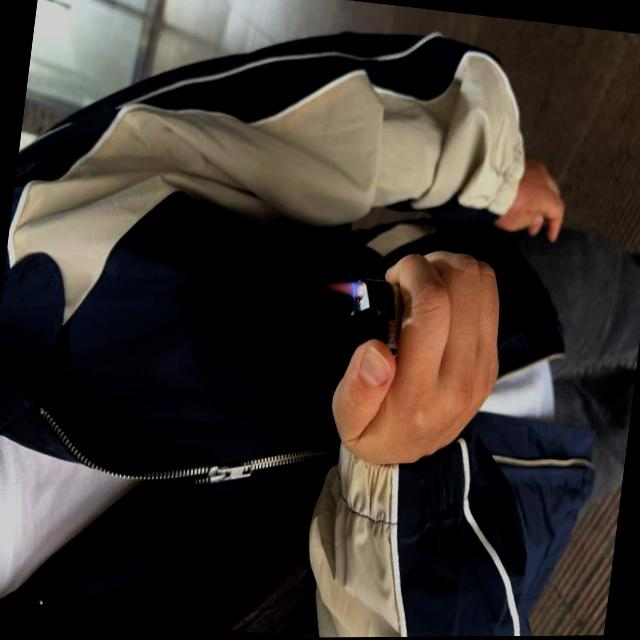Fire: (312, 274, 363, 298)
